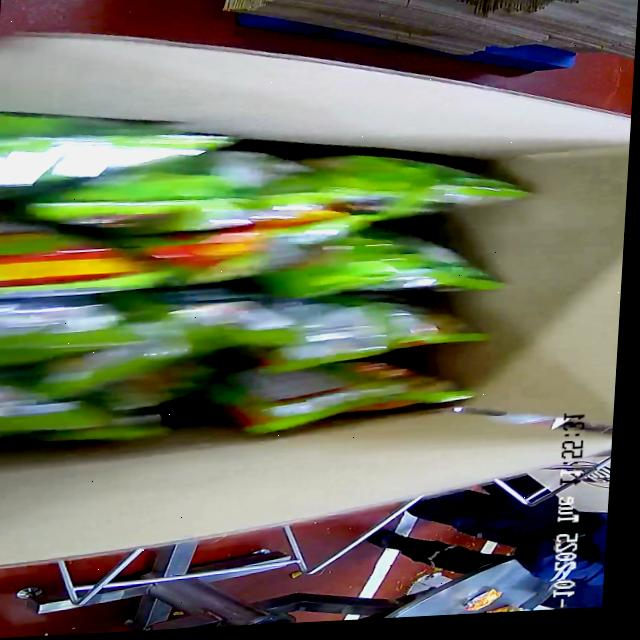YOGURT_HERB: (0, 87, 505, 436)
